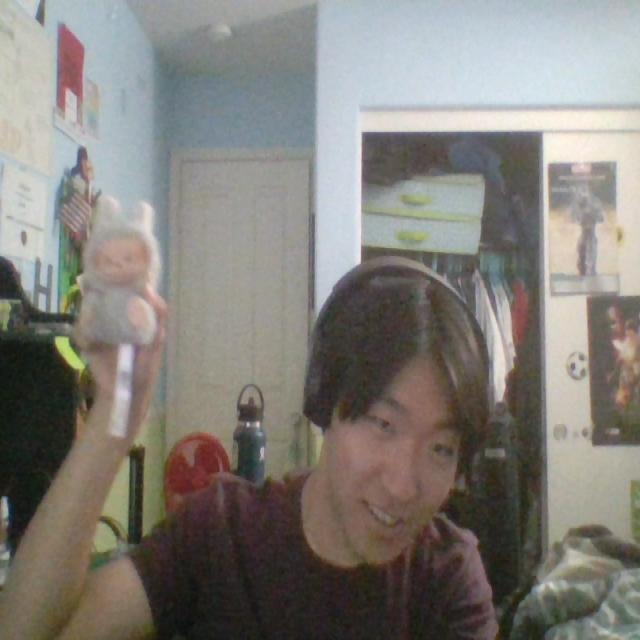labubu: (78, 197, 159, 345)
